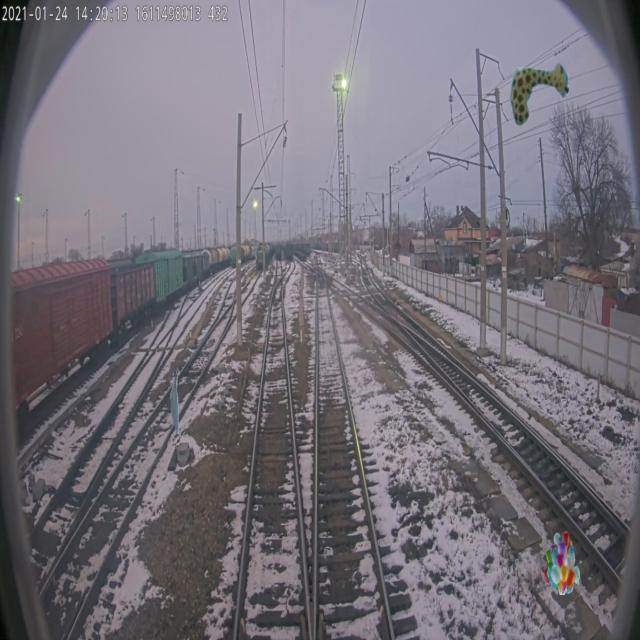balloon: (543, 531, 580, 595)
floating object: (509, 61, 569, 126), (170, 370, 184, 434)
